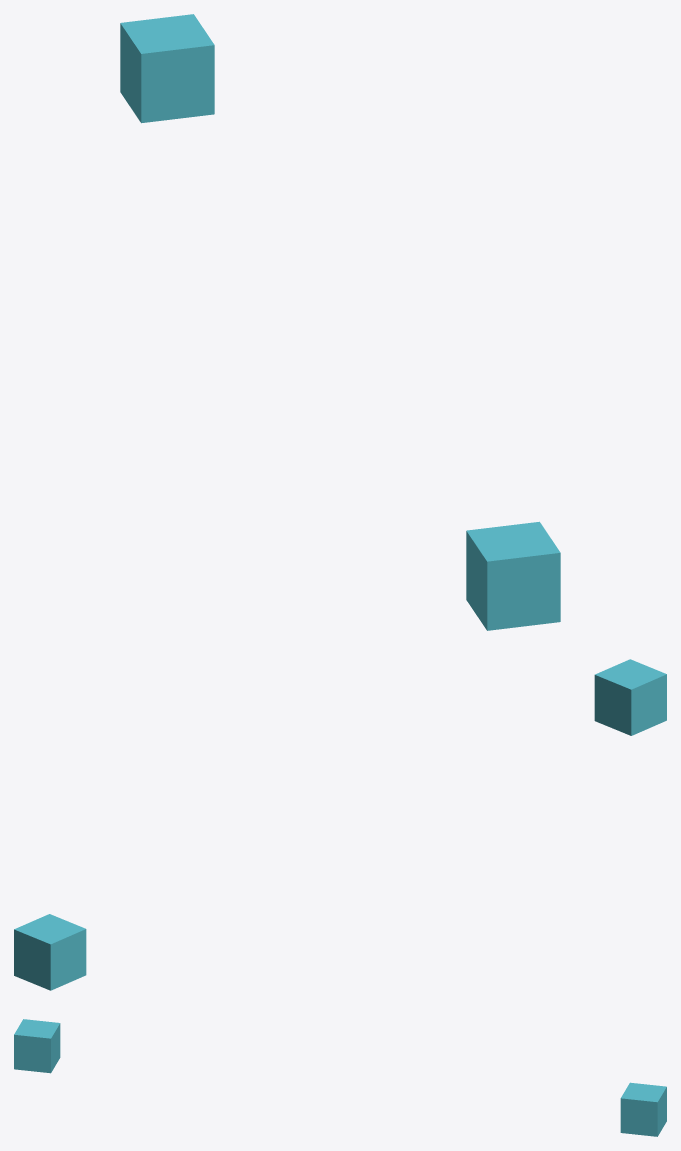
File: 1014_chimney.glb
3 views of the same model, one above another, from view 1: azimuth 30°, elevation 25°; view 2: azimuth 150°, elevation 25°; view 3: azimuth 270°, elevation 25° (orthographic). The views are drawn at different scales.
Parts seen in each view (by area): view 1: Box004, Box005; view 2: Box004, Box005; view 3: Box004, Box005.
Part boxes in pixels (x1=…): Box004: x1=466, y1=521, x2=560, y2=630; Box005: x1=120, y1=14, x2=214, y2=123; Box004: x1=594, y1=659, x2=666, y2=735; Box005: x1=14, y1=914, x2=86, y2=990; Box004: x1=14, y1=1019, x2=60, y2=1073; Box005: x1=620, y1=1082, x2=666, y2=1136.
Bounding box in the file's own units: 4.28 × 0.8302 × 14.19.
